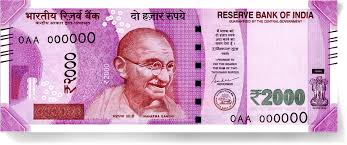twoThousand: (15, 23, 317, 113)
